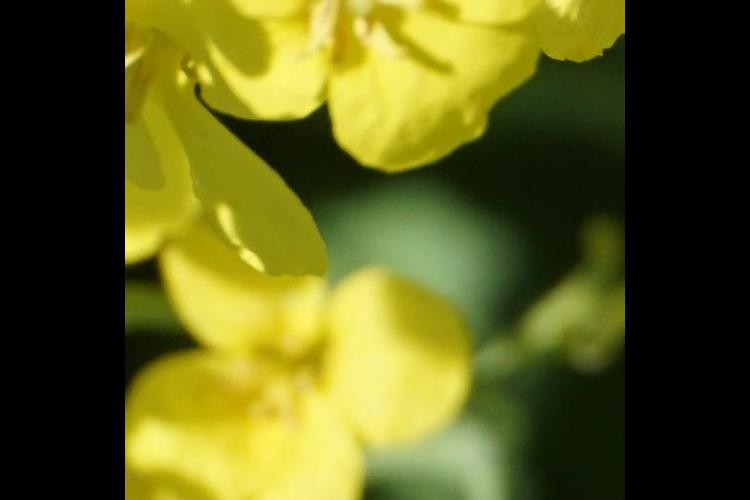yellow: (141, 237, 460, 500), (142, 1, 383, 211), (197, 1, 588, 129)
